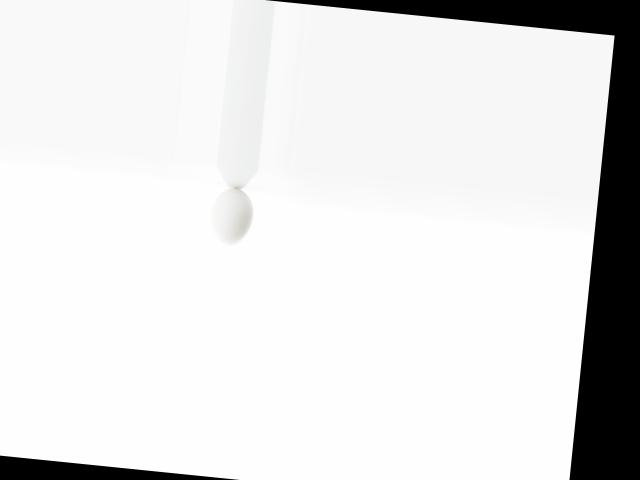egg: (209, 185, 255, 246)
